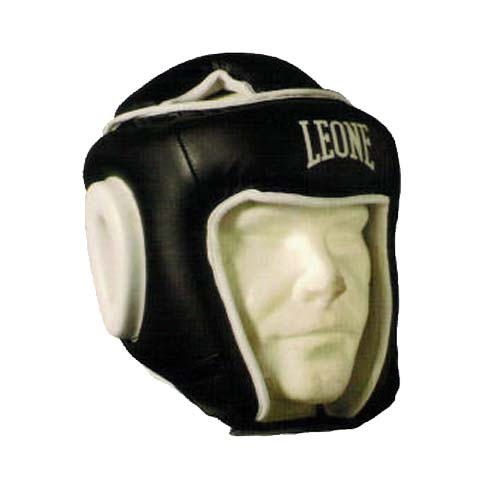helmet: (109, 61, 415, 436)
